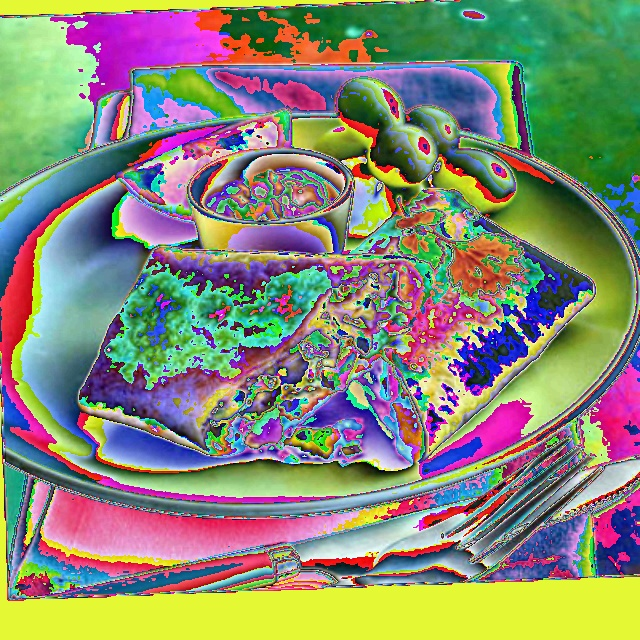background: (77, 77, 596, 463), (128, 55, 331, 222), (116, 109, 294, 223)
